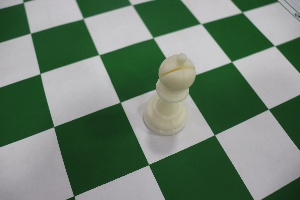white_bishop: (139, 36, 197, 148)
